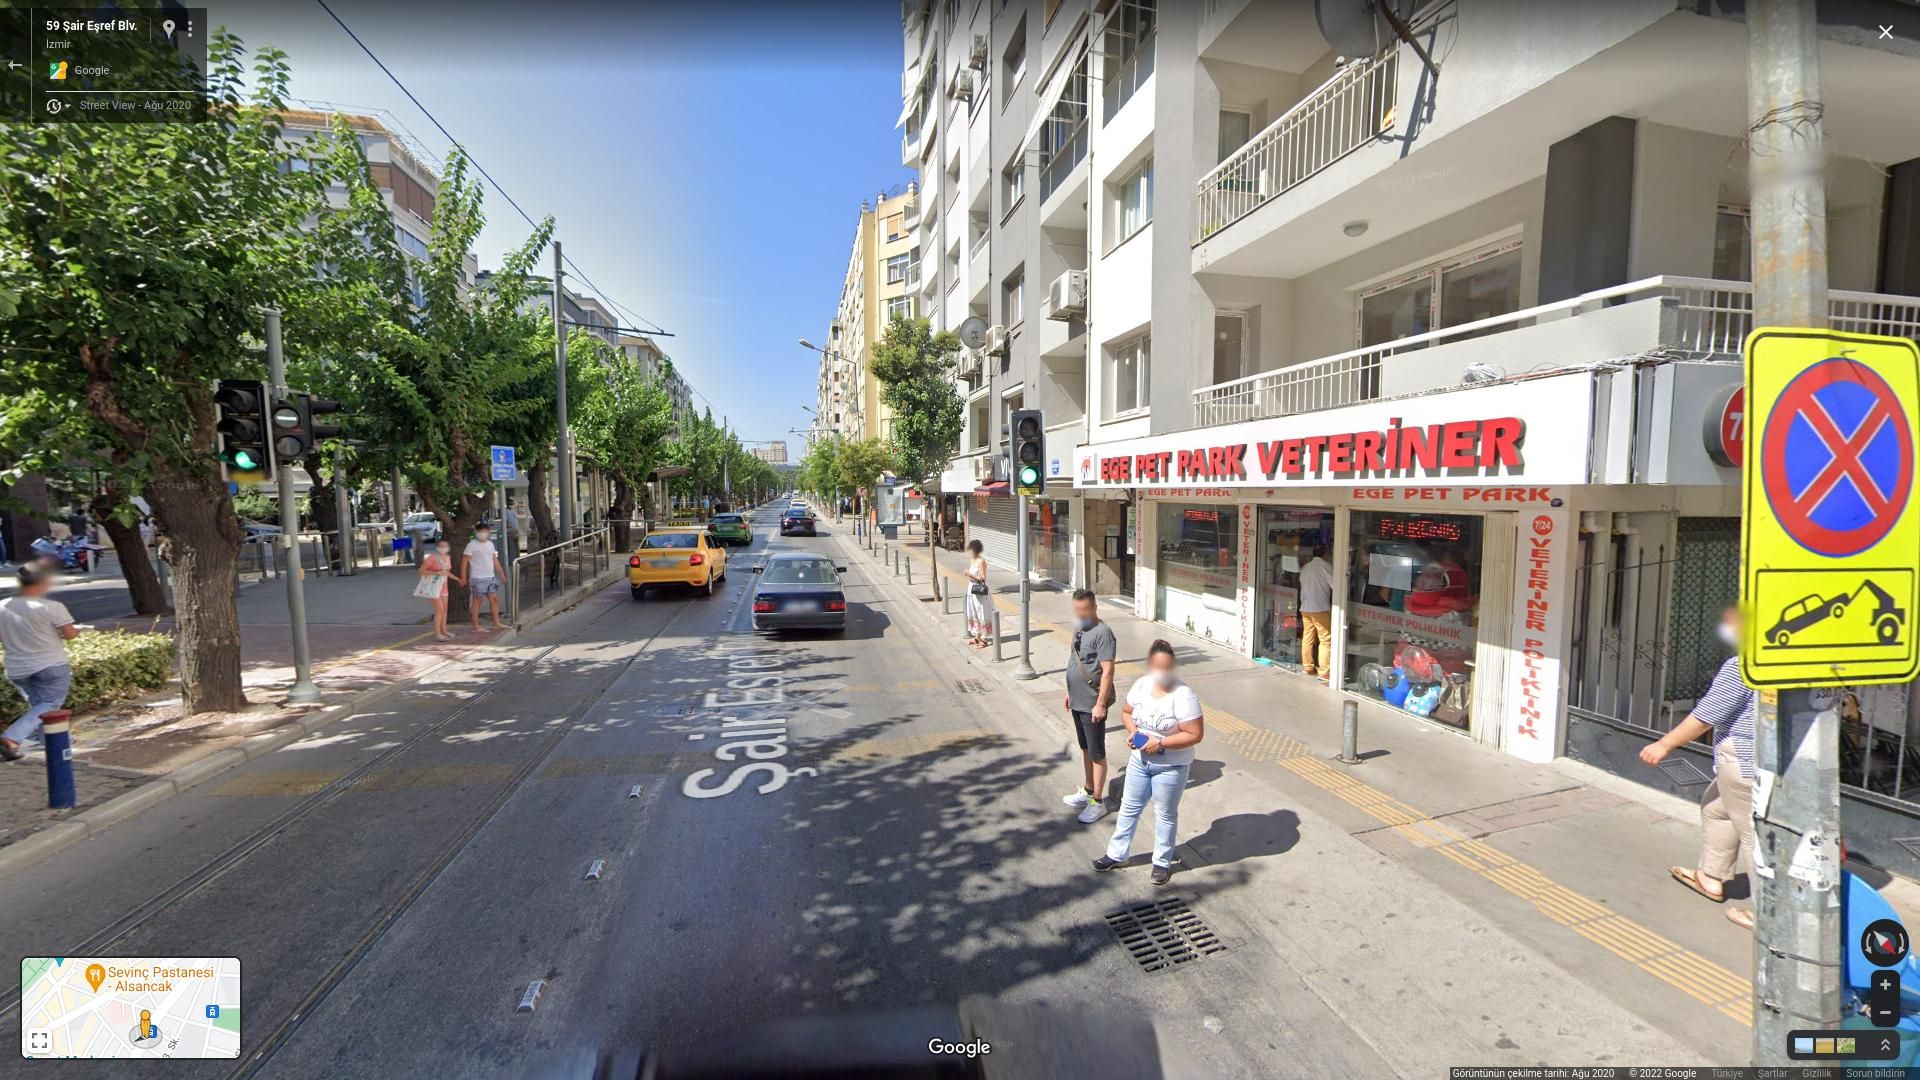greenlight: (218, 378, 266, 483)
leftturnsareforbidden: (272, 481, 282, 492)
